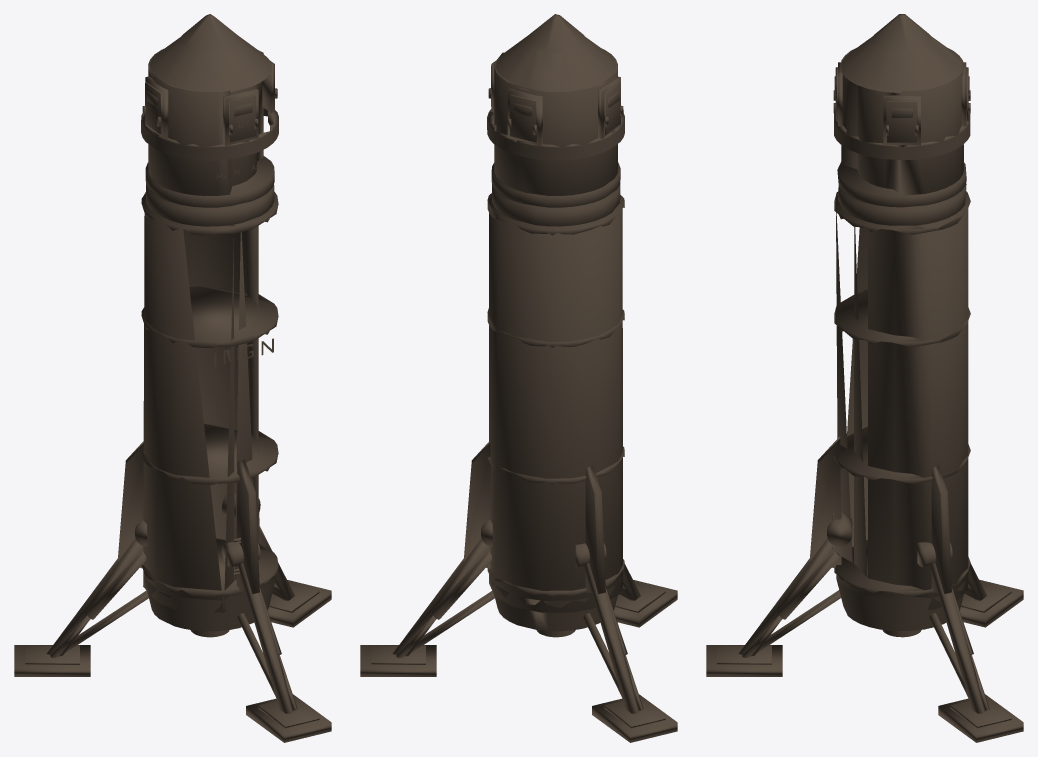
File: hugin_wreck.glb
3 views of the same model, side by side, from view 1: azimuth 30°, elevation 25°; view 2: azimuth 150°, elevation 25°; view 3: azimuth 270°, elevation 25° (orthographic).
Visible parts, largest first — view 1: Booster propellant hull, Cargo pressure hull, Cargo ogive shoulder, Booster reinforcement ring.002, Booster engine skirt, Booster reinforcement ring.001, Cargo mating collar, Cargo capture collar, Cargo separation ring, Thermal descent fin, Landing main strut, Thermal descent fin.002 (+16 smaller); view 2: Booster propellant hull, Cargo pressure hull, Cargo ogive shoulder, Cargo mating collar, Booster engine skirt, Cargo capture collar, Thermal descent fin.002, Thermal descent fin.001, Landing main strut.002, Cargo separation ring, Cargo nose, FLAT_LANDING_FOOT_03 (+16 smaller); view 3: Booster propellant hull, Cargo pressure hull, Cargo ogive shoulder, Booster engine skirt, Cargo mating collar, Thermal descent fin, Cargo separation ring, Cargo capture collar, Thermal descent fin.001, Booster reinforcement ring.002, Landing main strut.001, Booster reinforcement ring.001 (+16 smaller).
Part boxes in pixels (x1,y1,x2,y2): Booster propellant hull: (143,192,258,612); Cargo pressure hull: (148,49,263,195); Cargo ogive shoulder: (149,36,271,91); Booster reinforcement ring.002: (141,286,278,347); Booster engine skirt: (143,574,276,631); Booster reinforcement ring.001: (142,424,278,484); Cargo mating collar: (146,184,274,226); Cargo capture collar: (141,108,278,160); Cargo separation ring: (145,156,274,207); Thermal descent fin: (236,459,259,594); Landing main strut: (238,562,293,713); Thermal descent fin.002: (117,441,143,568); Booster propellant hull: (489,195,622,612); Cargo pressure hull: (494,49,617,195); Cargo ogive shoulder: (496,36,616,91); Cargo mating collar: (492,184,620,226); Booster engine skirt: (489,575,622,631); Cargo capture collar: (487,109,624,160); Thermal descent fin.002: (585,466,605,594); Thermal descent fin.001: (463,442,490,568); Landing main strut.002: (584,562,639,713); Cargo separation ring: (491,162,620,207); Cargo nose: (526,14,586,52); FLAT_LANDING_FOOT_03: (592,694,677,742); Booster propellant hull: (836,194,968,610); Cargo pressure hull: (841,48,963,195); Cargo ogive shoulder: (841,36,963,92); Booster engine skirt: (836,570,968,630); Cargo mating collar: (838,183,966,225); Thermal descent fin: (809,436,841,568); Cargo separation ring: (837,162,966,207); Cargo capture collar: (834,113,970,160); Thermal descent fin.001: (931,465,951,593); Booster reinforcement ring.002: (834,289,970,347); Landing main strut.001: (930,562,985,713); Booster reinforcement ring.001: (834,426,970,483).
Size of the model in its own units: 10.93 by 21.39 by 9.46.
